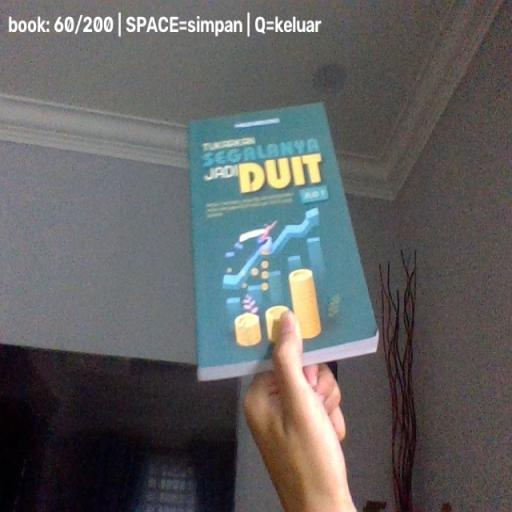Book: (188, 101, 379, 383)
